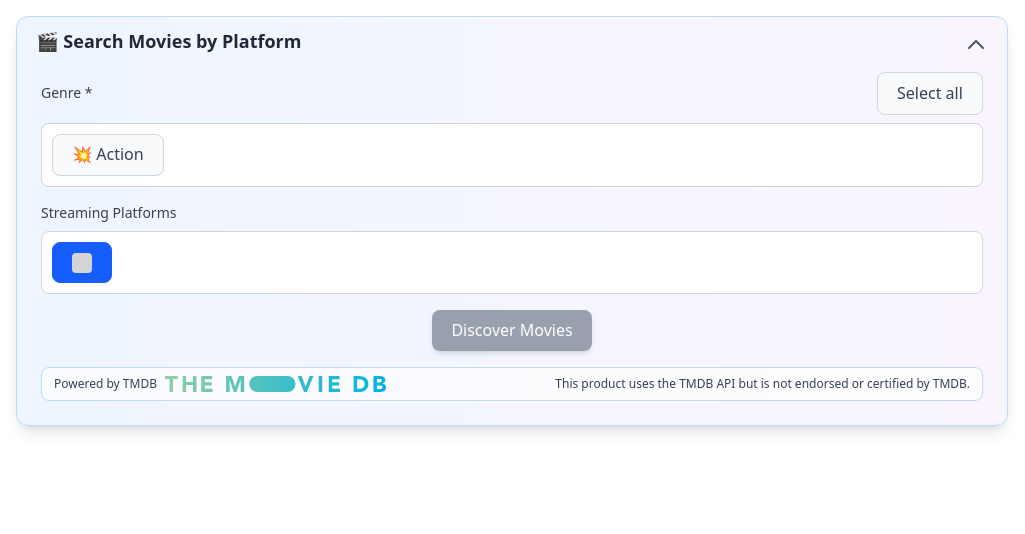
Test: TMDBCategorySelector movie-cap behavior › warns and skips discover requests when there are no slots left
Step 1. Click the button "💥 Action" → (108, 155), box [52, 134, 164, 176]
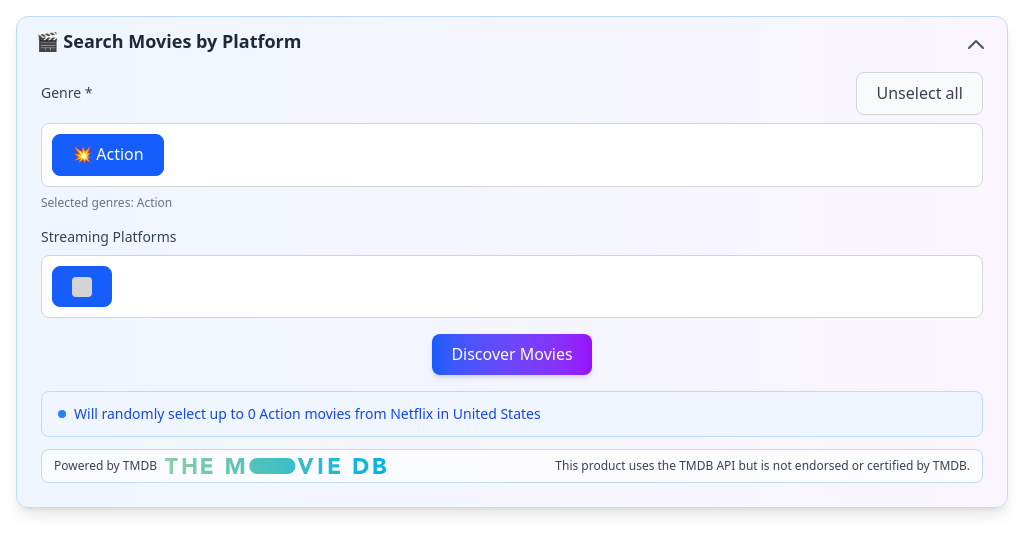
Expected: the button "Discover Movies" is enabled
Step 2. Click the button "Discover Movies" → (512, 355), box [432, 334, 592, 375]
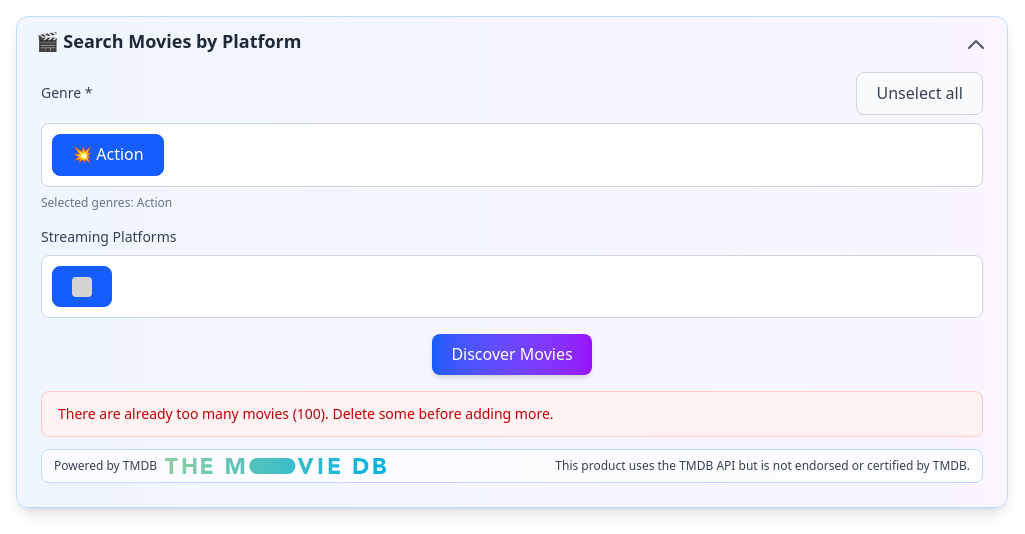
Expected: the text "There are already too many movies (100). Delete some before adding more." is shown, [41, 391, 983, 437]
